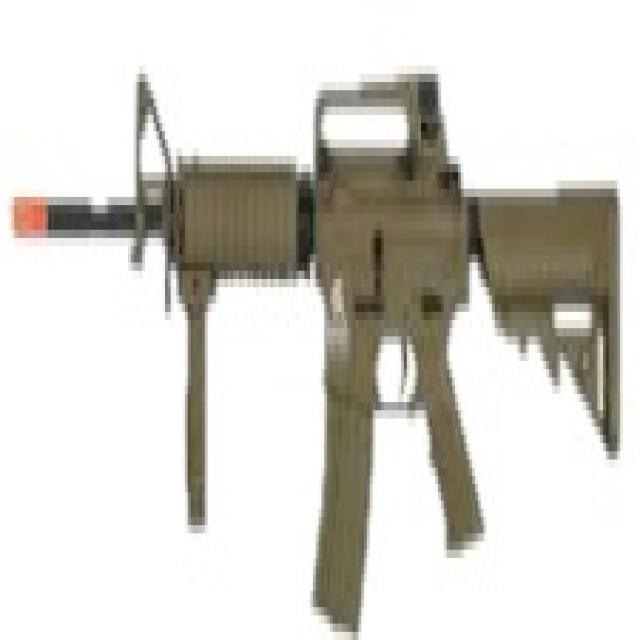rifle: (7, 50, 627, 640)
